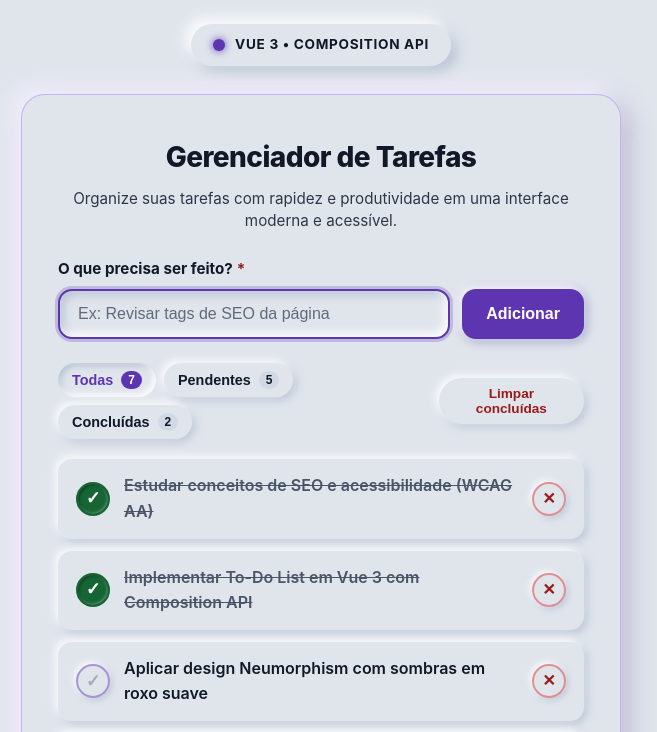
Test: Integração do App To-Do (Vue 3) › permite adicionar uma tarefa através da interface
Type "Comprar café para o time de SEO" into the field with id "new-todo-input" at (254, 314), box [58, 290, 450, 340]
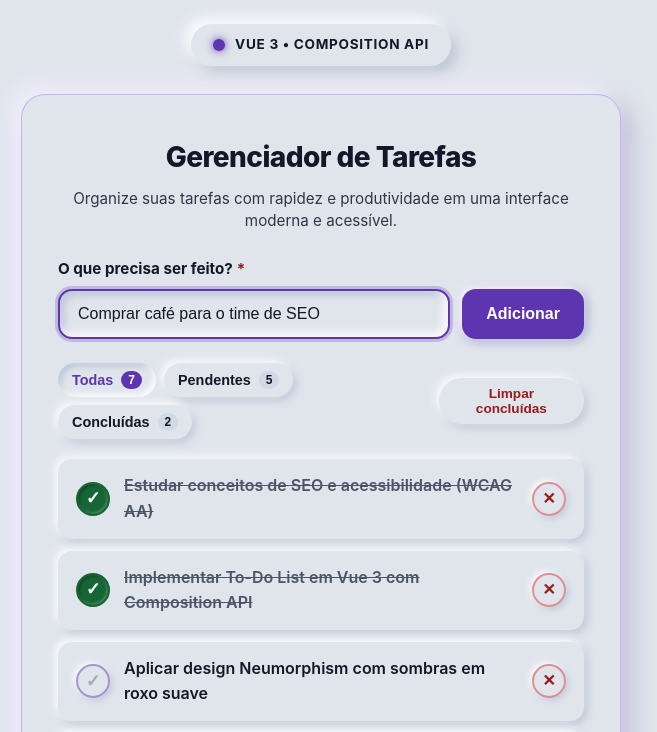
Submit the form with class "todo-form", box [58, 257, 584, 339]
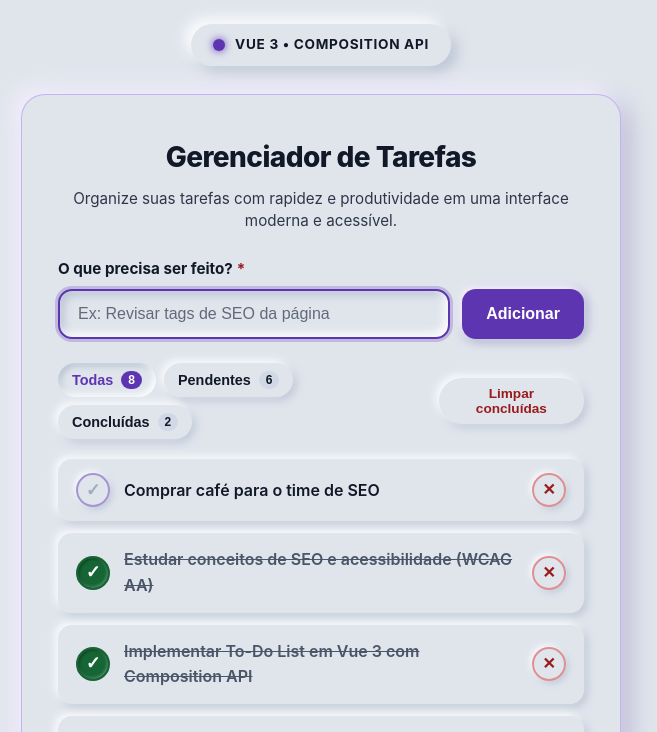
Expected: the text "Comprar café para o time de SEO" is shown, [124, 480, 380, 500]
